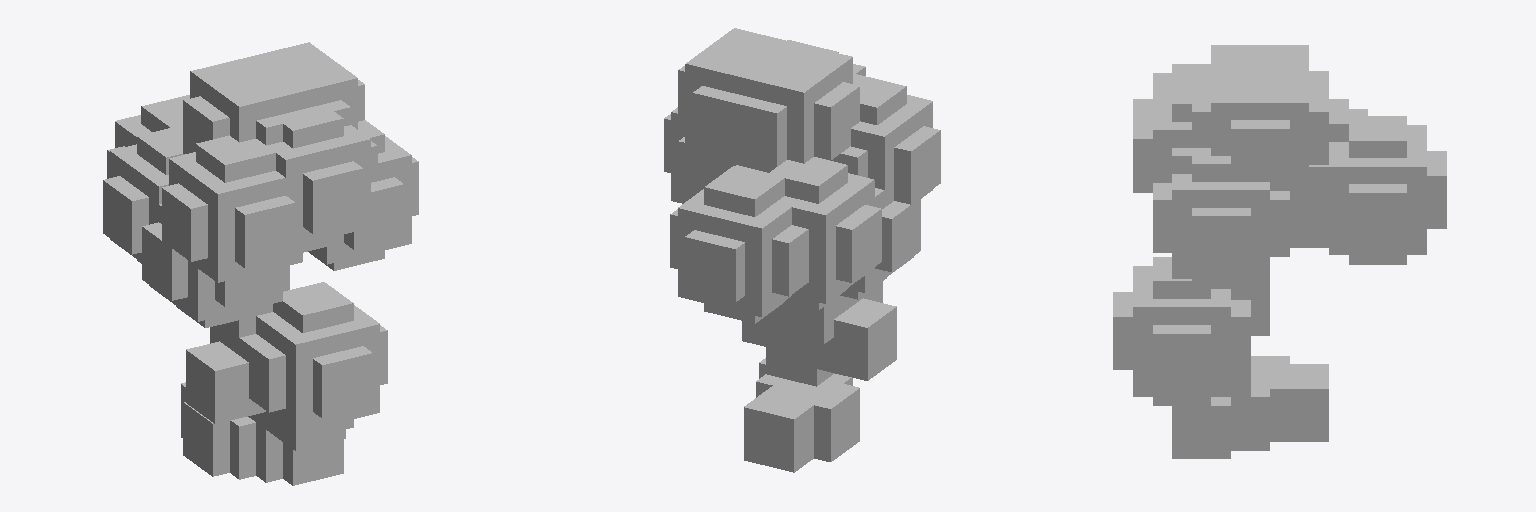
File: bush2.obj
3 views of the same model, side by side, from view 1: azimuth 30°, elevation 25°; view 2: azimuth 150°, elevation 25°; view 3: azimuth 270°, elevation 25° (orthographic).
Bounding box in the file's own units: 14 × 21 × 17.